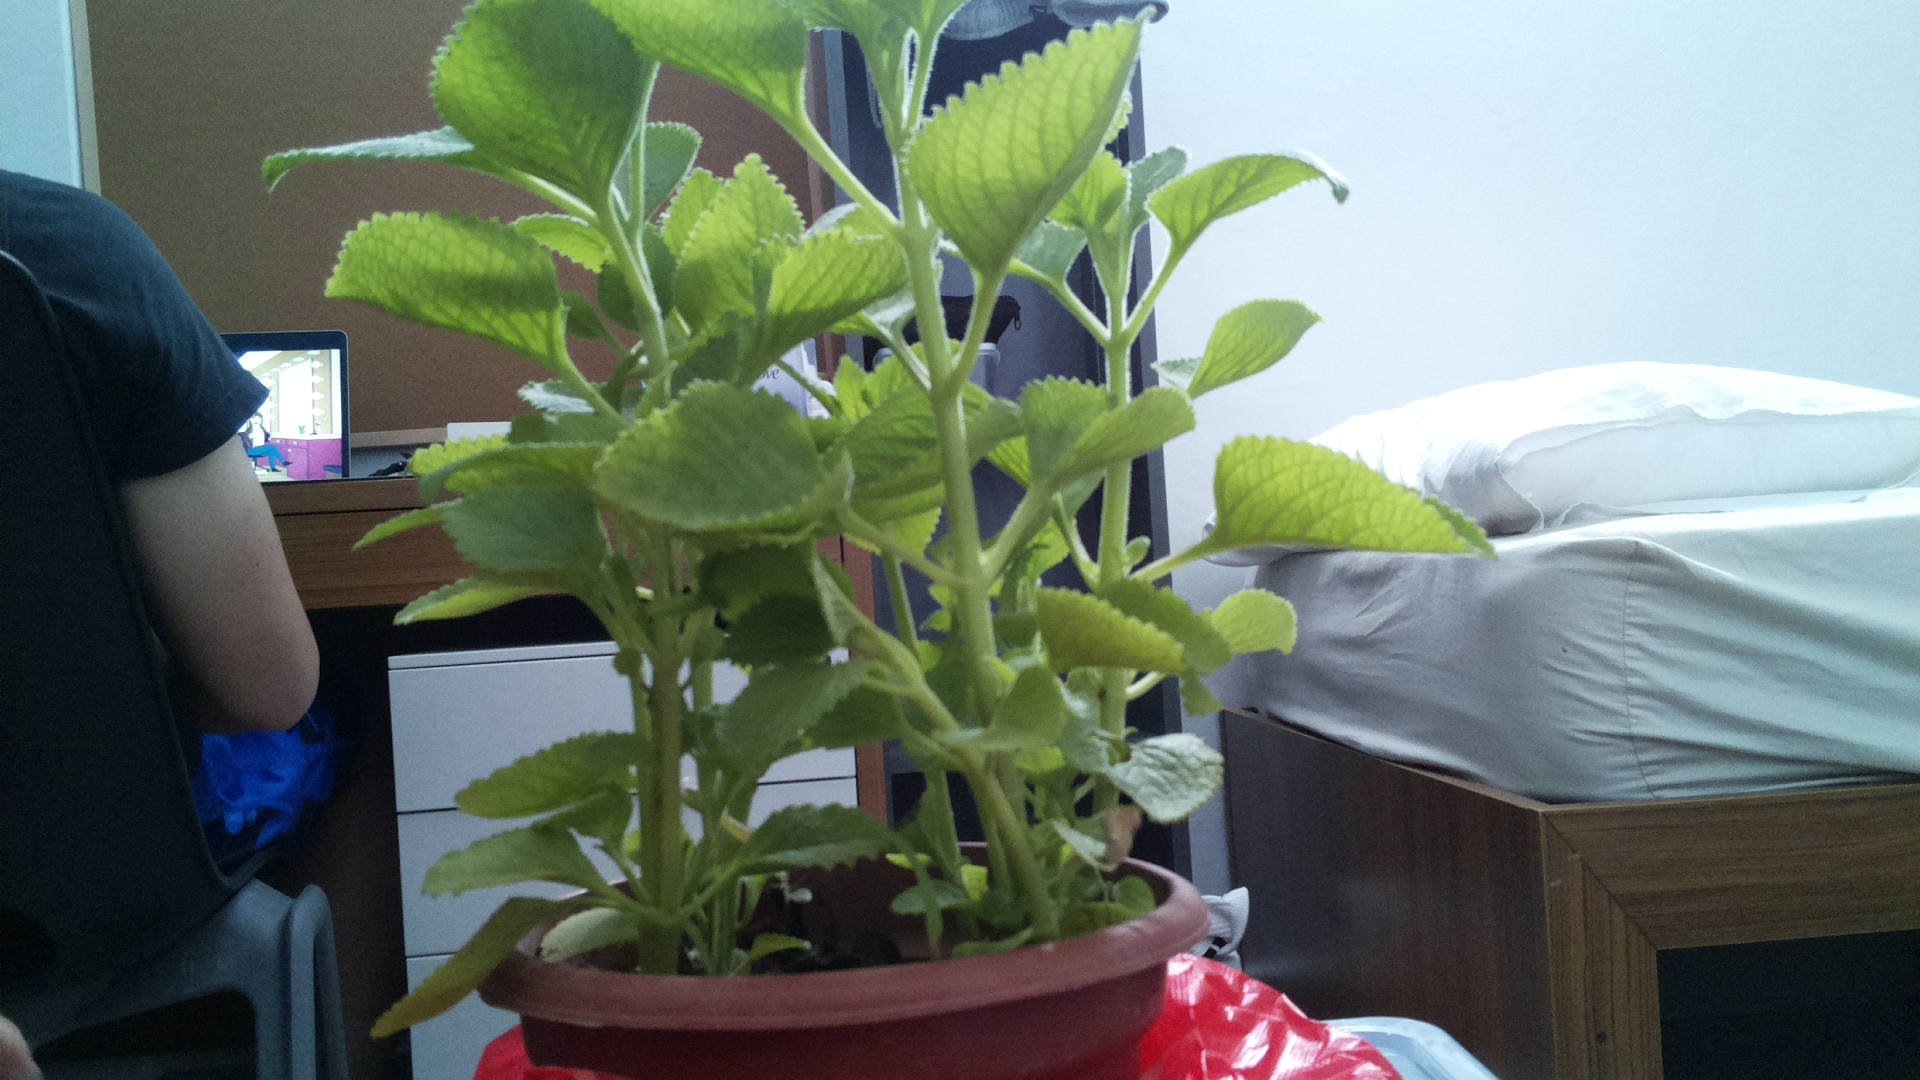leaf: (916, 7, 1153, 285), (1199, 430, 1524, 560), (592, 375, 858, 534), (429, 1, 637, 204), (334, 198, 575, 367), (367, 882, 588, 1043), (732, 204, 936, 375), (1160, 115, 1352, 262), (448, 713, 661, 823), (438, 460, 603, 591), (1036, 582, 1229, 691), (1013, 373, 1196, 487), (712, 650, 872, 777), (419, 814, 605, 909), (1168, 289, 1327, 393), (725, 800, 911, 881), (1106, 735, 1225, 827)
